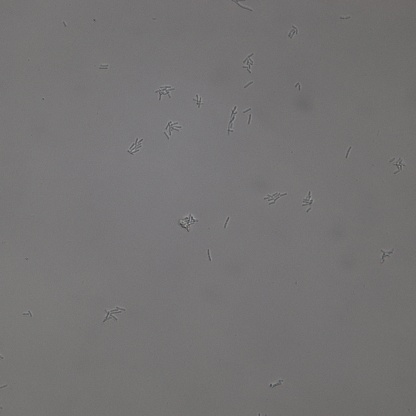R(colony): (103, 305, 126, 322), (264, 190, 287, 206), (179, 214, 199, 232), (154, 85, 175, 101), (164, 120, 181, 139), (301, 190, 314, 214), (127, 138, 144, 156), (388, 157, 406, 174), (227, 105, 237, 135), (241, 53, 255, 74), (380, 245, 393, 263), (287, 25, 298, 39), (193, 95, 204, 108), (22, 311, 33, 318), (294, 83, 301, 90)
